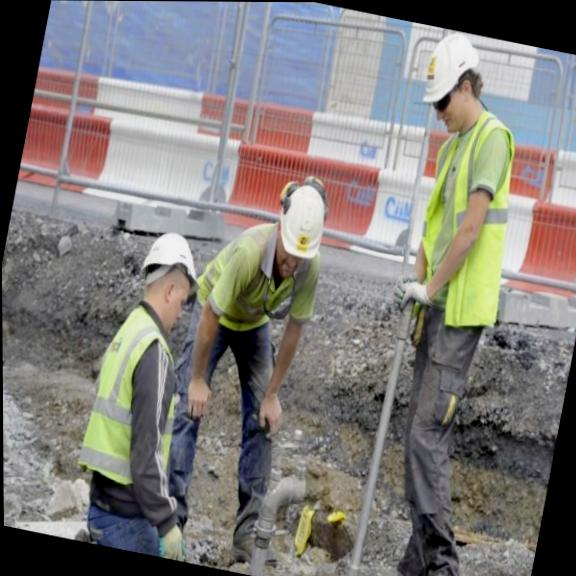safety_vest: (390, 104, 541, 343), (75, 287, 201, 506), (202, 215, 327, 353)
